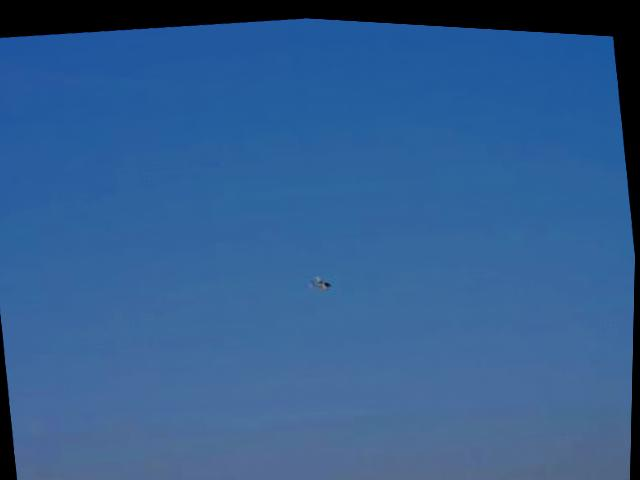uav: (308, 269, 336, 290)
